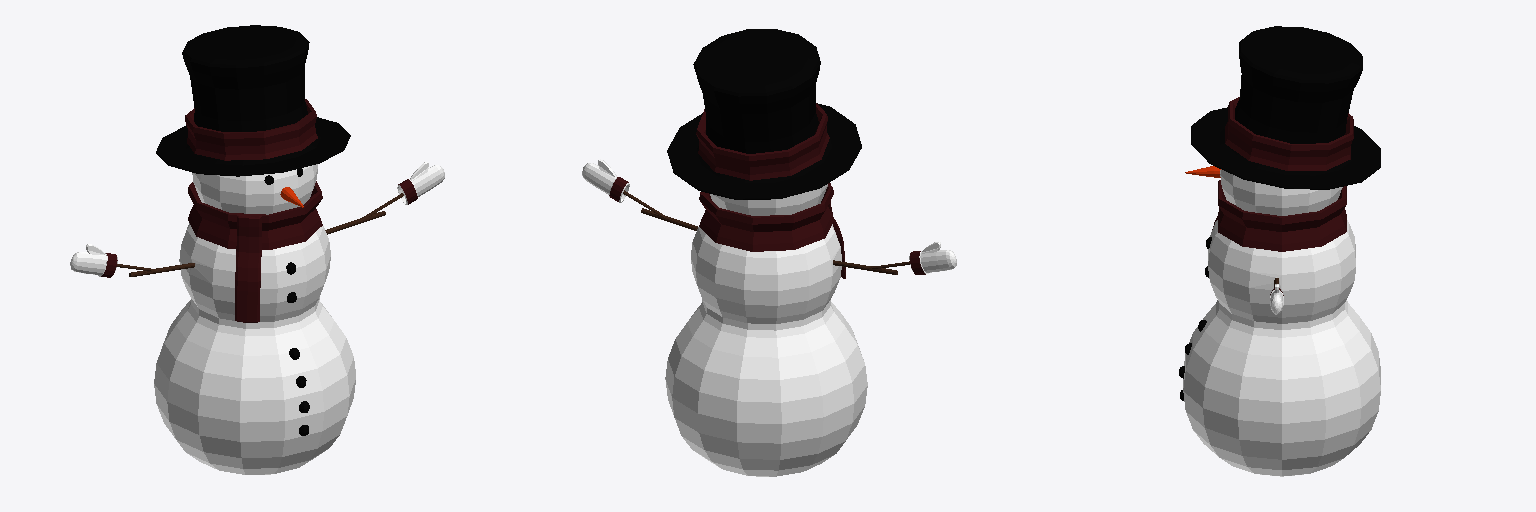
Rendered from Snowman_Export.obj.
3 views of the same model, side by side, from view 1: azimuth 30°, elevation 25°; view 2: azimuth 150°, elevation 25°; view 3: azimuth 270°, elevation 25° (orthographic).
Visible parts, largest first — view 1: polySurface7 Body, pCylinder1 TopHat, Scarf pTorus1, TopHat pTorus2, pCube1 Scarf; view 2: polySurface7 Body, pCylinder1 TopHat, Scarf pTorus1, TopHat pTorus2; view 3: polySurface7 Body, pCylinder1 TopHat, Scarf pTorus1, TopHat pTorus2.
Part boxes in pixels (x1,y1,x2,y2): polySurface7 Body: (70,162,444,474); pCylinder1 TopHat: (156,25,350,176); Scarf pTorus1: (188,181,322,249); TopHat pTorus2: (185,99,317,160); pCube1 Scarf: (235,213,261,322); polySurface7 Body: (582,159,956,476); pCylinder1 TopHat: (667,29,861,199); Scarf pTorus1: (699,184,833,251); TopHat pTorus2: (696,103,829,180); polySurface7 Body: (1183,169,1380,476); pCylinder1 TopHat: (1191,26,1380,189); Scarf pTorus1: (1218,180,1346,251); TopHat pTorus2: (1225,97,1353,170).
Bounding box in the file's own units: 16.98 × 18.3 × 7.97.